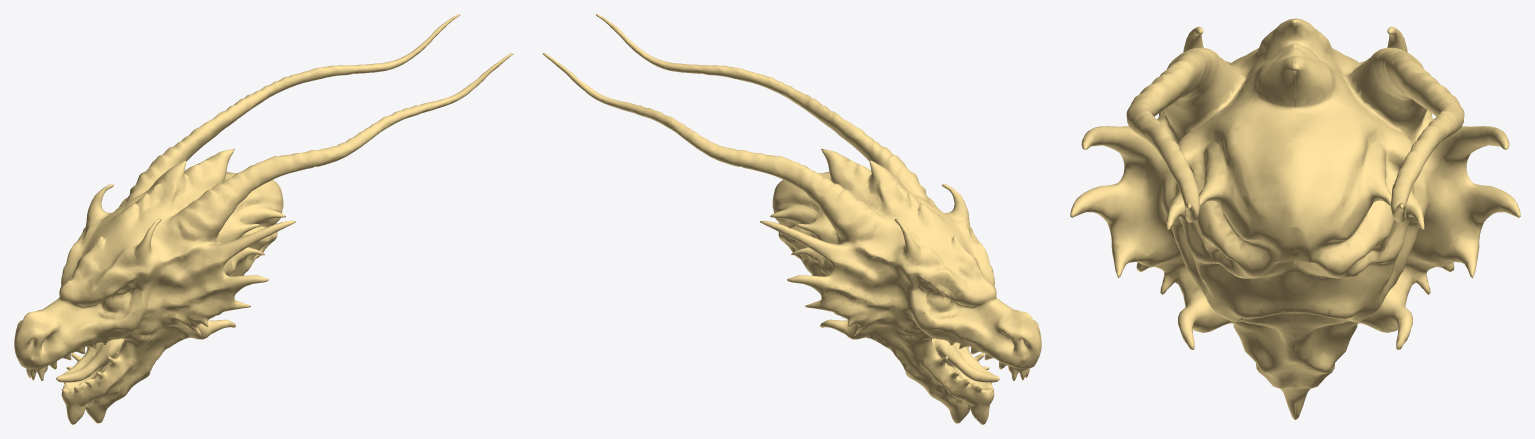
The model's file is dargon1export.fbx.
3 renders of one model, left to right at view 1: azimuth 30°, elevation 25°; view 2: azimuth 150°, elevation 25°; view 3: azimuth 270°, elevation 25°, orthographic. The views are drawn at different scales.
Visible parts, largest first — view 1: Mesh1.001; view 2: Mesh1.001; view 3: Mesh1.001.
Boxes of the visible parts, x1,y1,x2,y2 form: Mesh1.001: [14, 14, 513, 424]; Mesh1.001: [542, 14, 1041, 424]; Mesh1.001: [1070, 18, 1520, 419].
Bounding box in the file's own units: 202 × 121 × 83.6.
Materials: 1 (1 with a texture image).
